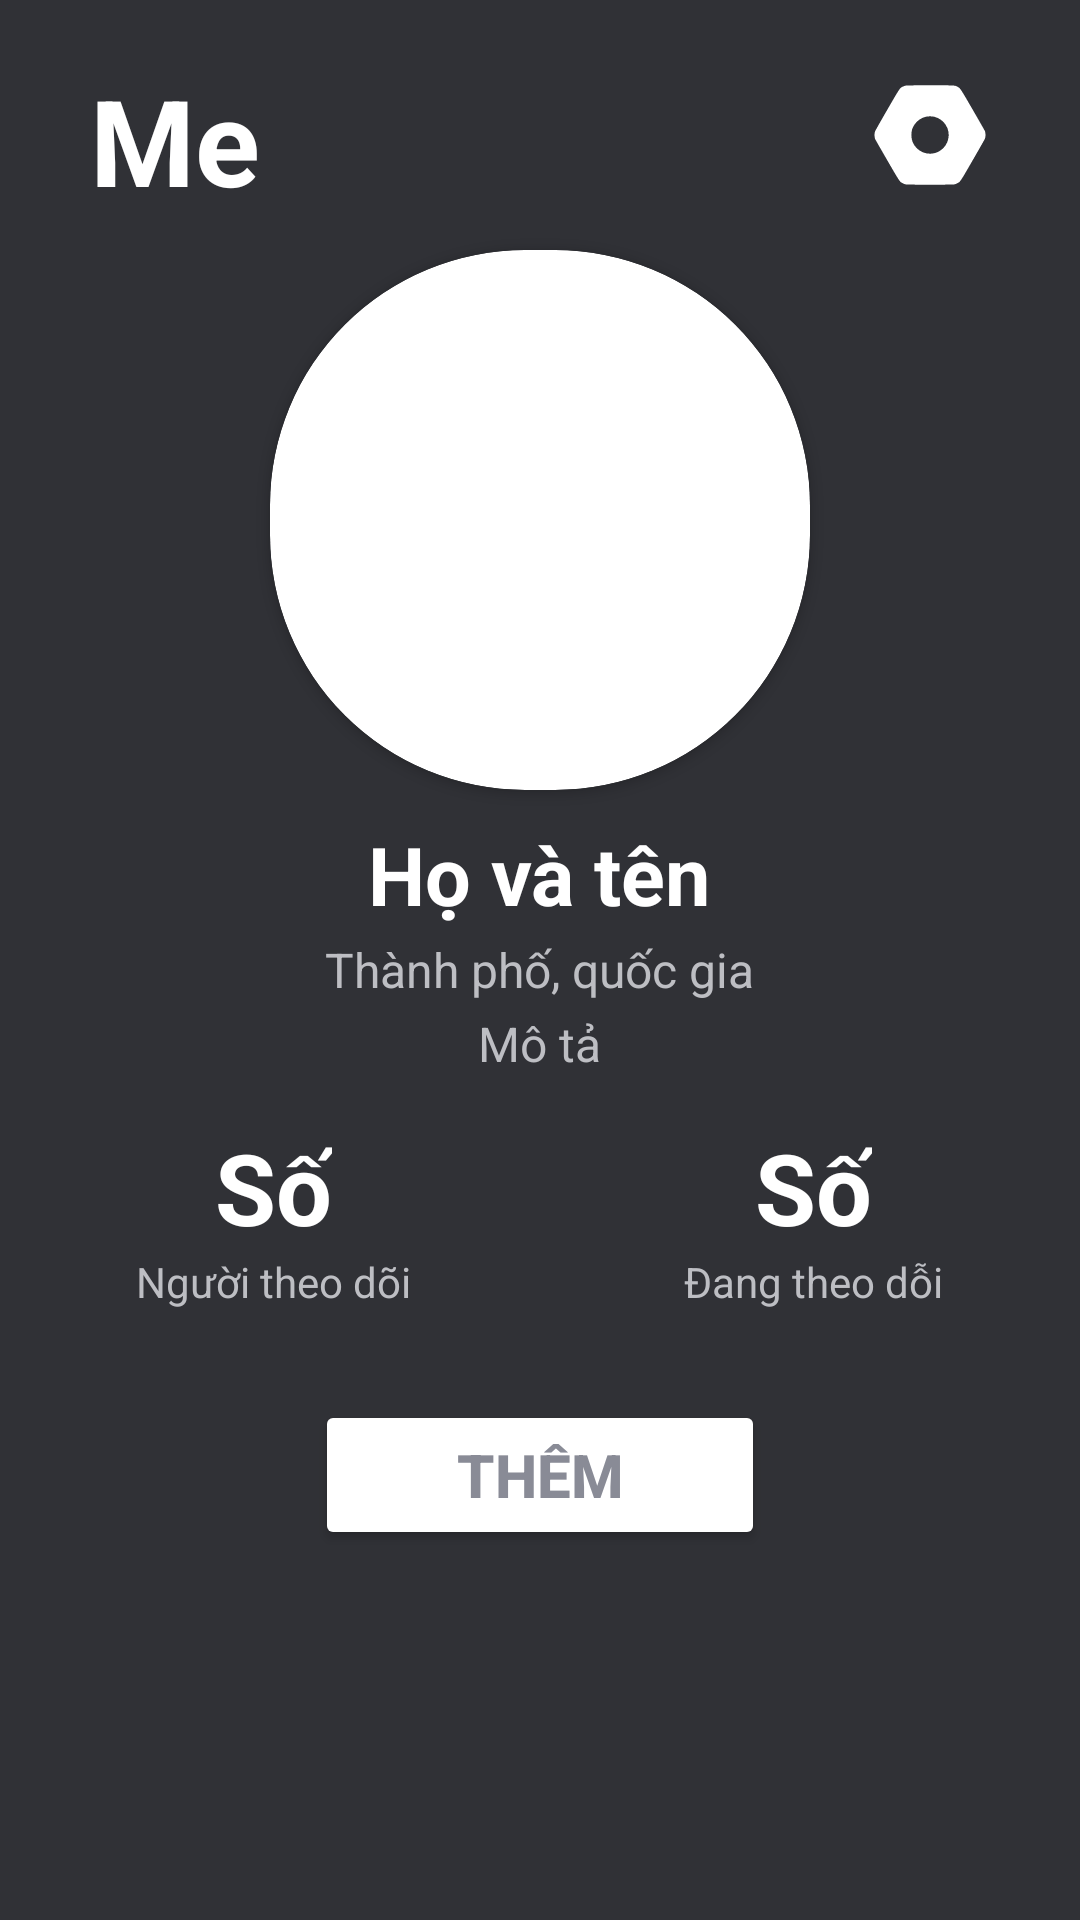

Point at icon controls on the screen. Image size 1080px x 1920px, points as (x=x, y=y).
setting: (x=930, y=135)
